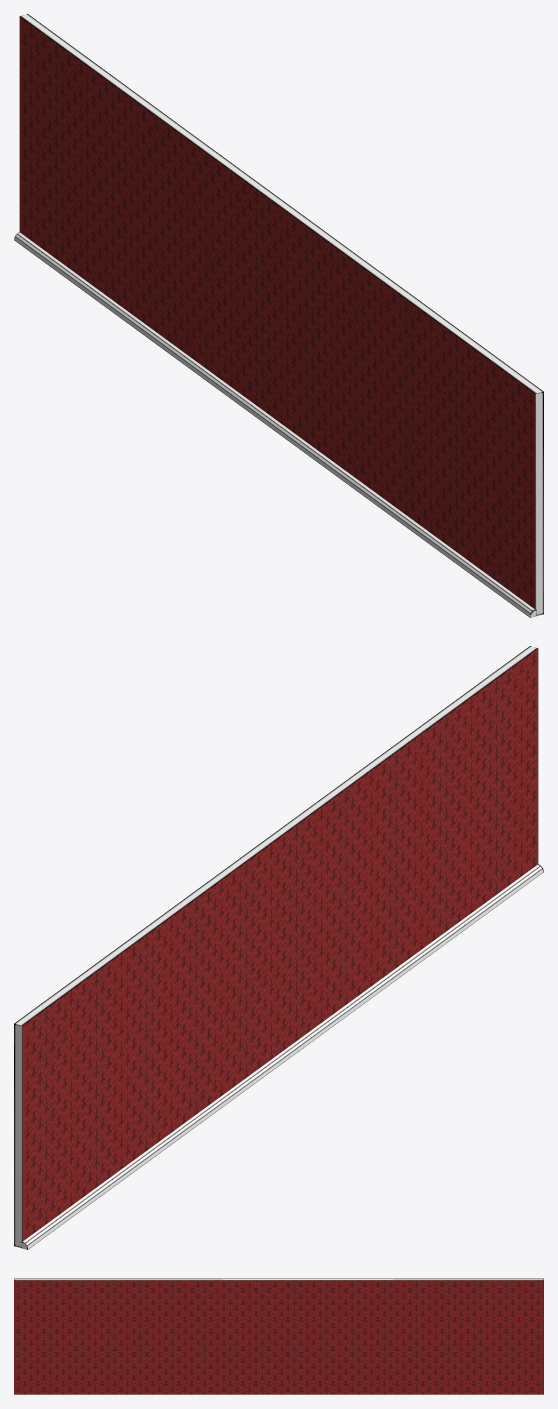
Rendered from Wallbetter.fbx.
3 views of the same model, one above another, from view 1: azimuth 30°, elevation 25°; view 2: azimuth 150°, elevation 25°; view 3: azimuth 270°, elevation 25° (orthographic). The views are drawn at different scales.
Visible parts, largest first — view 1: Wall; view 2: Wall; view 3: Wall.
Boxes of the visible parts, x1,y1,x2,y2 form: Wall: (14,14,543,617); Wall: (14,646,543,1249); Wall: (14,1278,543,1394).
Size of the model in its own units: 53.35 by 810 by 3400.
